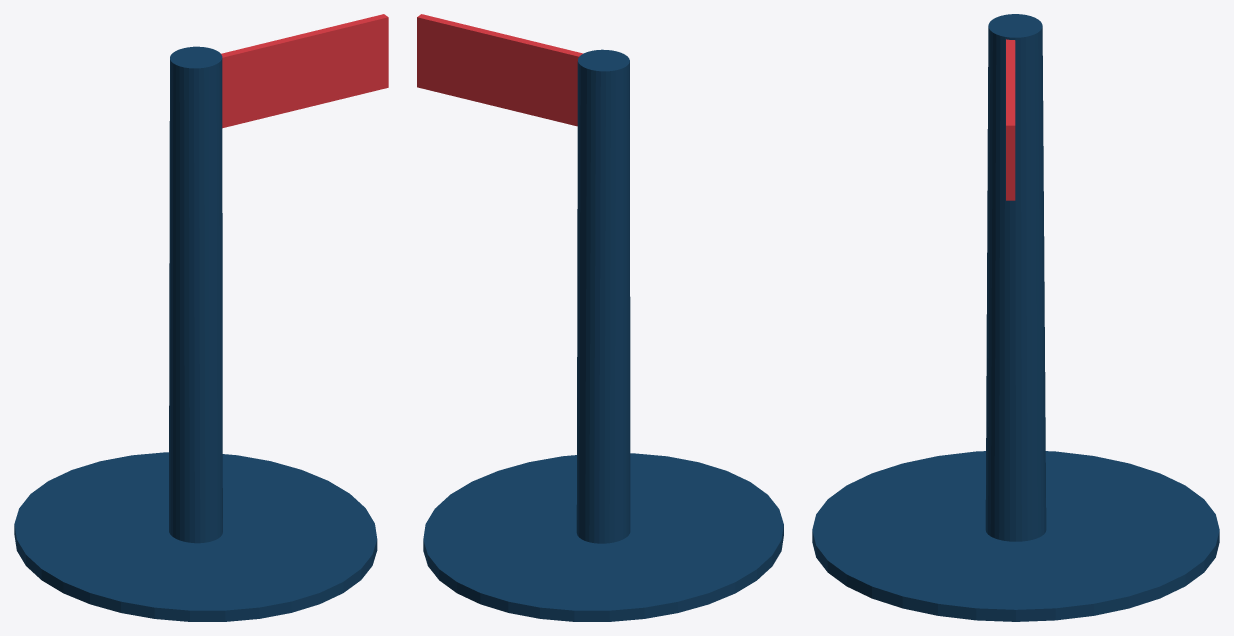
File: bandera2.fbx
3 renders of one model, left to right at view 1: azimuth 30°, elevation 25°; view 2: azimuth 150°, elevation 25°; view 3: azimuth 270°, elevation 25°, orthographic. The views are drawn at different scales.
Visible parts, largest first — view 1: Cylinder; view 2: Cylinder; view 3: Cylinder.
Part boxes in pixels (x1,y1,x2,y2): Cylinder: (14,14,388,621); Cylinder: (417,14,783,621); Cylinder: (812,14,1219,621).
Size of the model in its own units: 206 by 280 by 200.
1 material, 1 textured.
